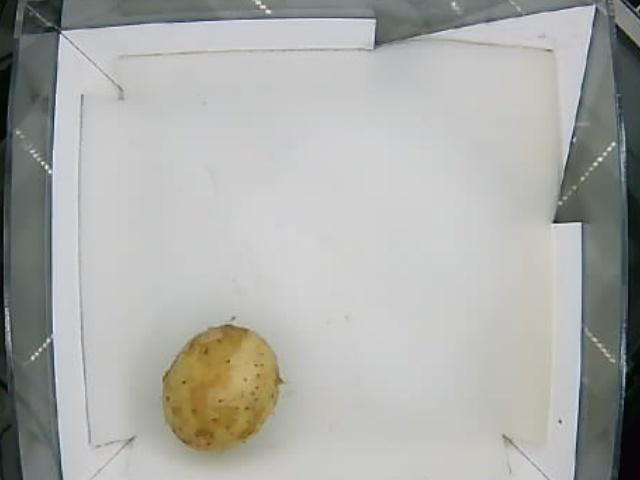Potato: (160, 322, 280, 450)
